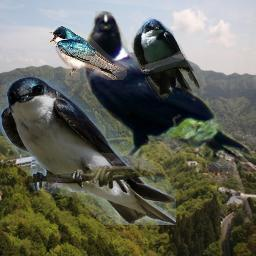Crow: (81, 11, 256, 169)
Swallow: (0, 77, 176, 225), (131, 17, 203, 103), (48, 25, 127, 80)
